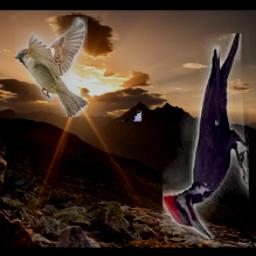Crow: (116, 66, 141, 122)
Sparrow: (15, 17, 88, 117)
Woodpecker: (162, 33, 249, 239)
